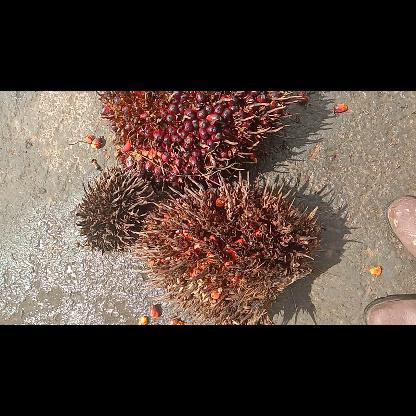Janjang kosong: (76, 164, 158, 256)
TBS masak: (96, 90, 302, 188)
Terlalu masak: (129, 172, 321, 324)
